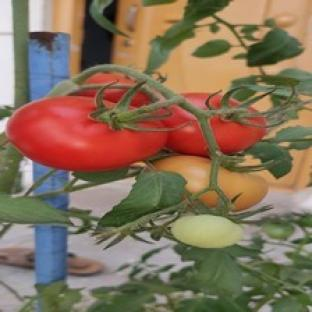Tomato: (6, 97, 167, 171), (172, 215, 243, 247), (163, 106, 208, 155), (154, 155, 211, 193), (84, 73, 136, 103), (262, 222, 295, 239)
